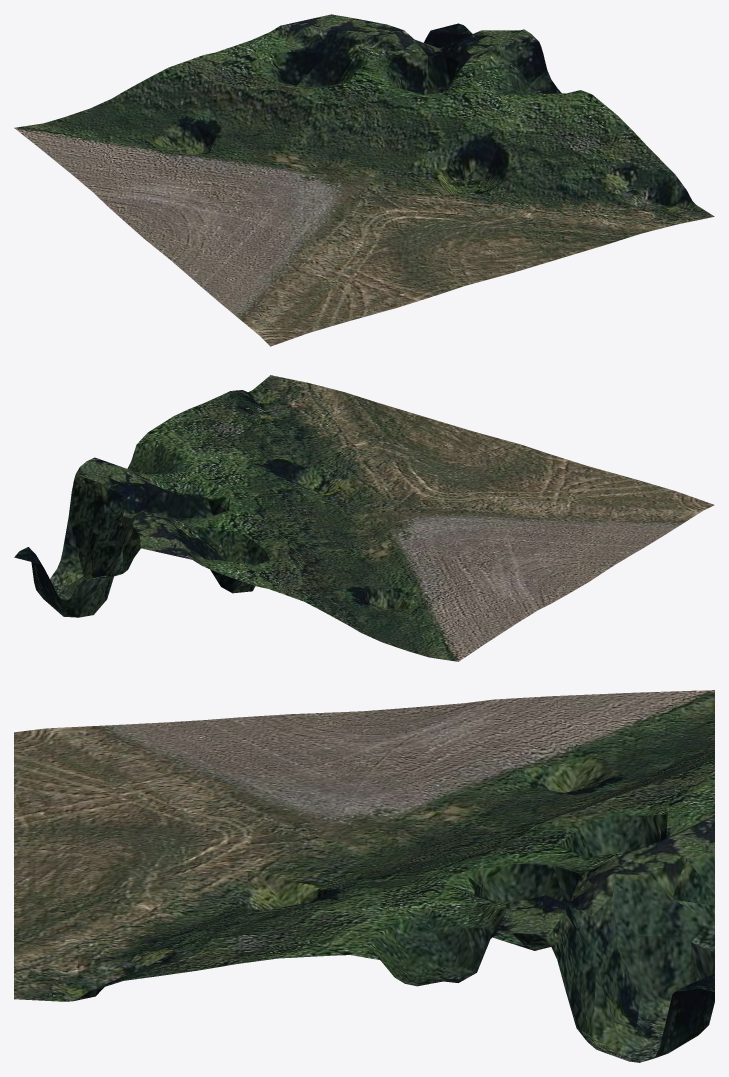
Rendered from map_15_8176_13776.dae.
3 views of the same model, one above another, from view 1: azimuth 30°, elevation 25°; view 2: azimuth 150°, elevation 25°; view 3: azimuth 270°, elevation 25° (orthographic). The views are drawn at different scales.
Parts seen in each view (by area): view 1: Ter0; view 2: Ter0; view 3: Ter0.
Boxes of the visible parts, x1,y1,x2,y2 form: Ter0: [14, 14, 714, 346]; Ter0: [14, 375, 714, 661]; Ter0: [14, 690, 714, 1062].
Size of the model in its own units: 63.88 by 63.88 by 13.26.
3 materials, 3 textured.
